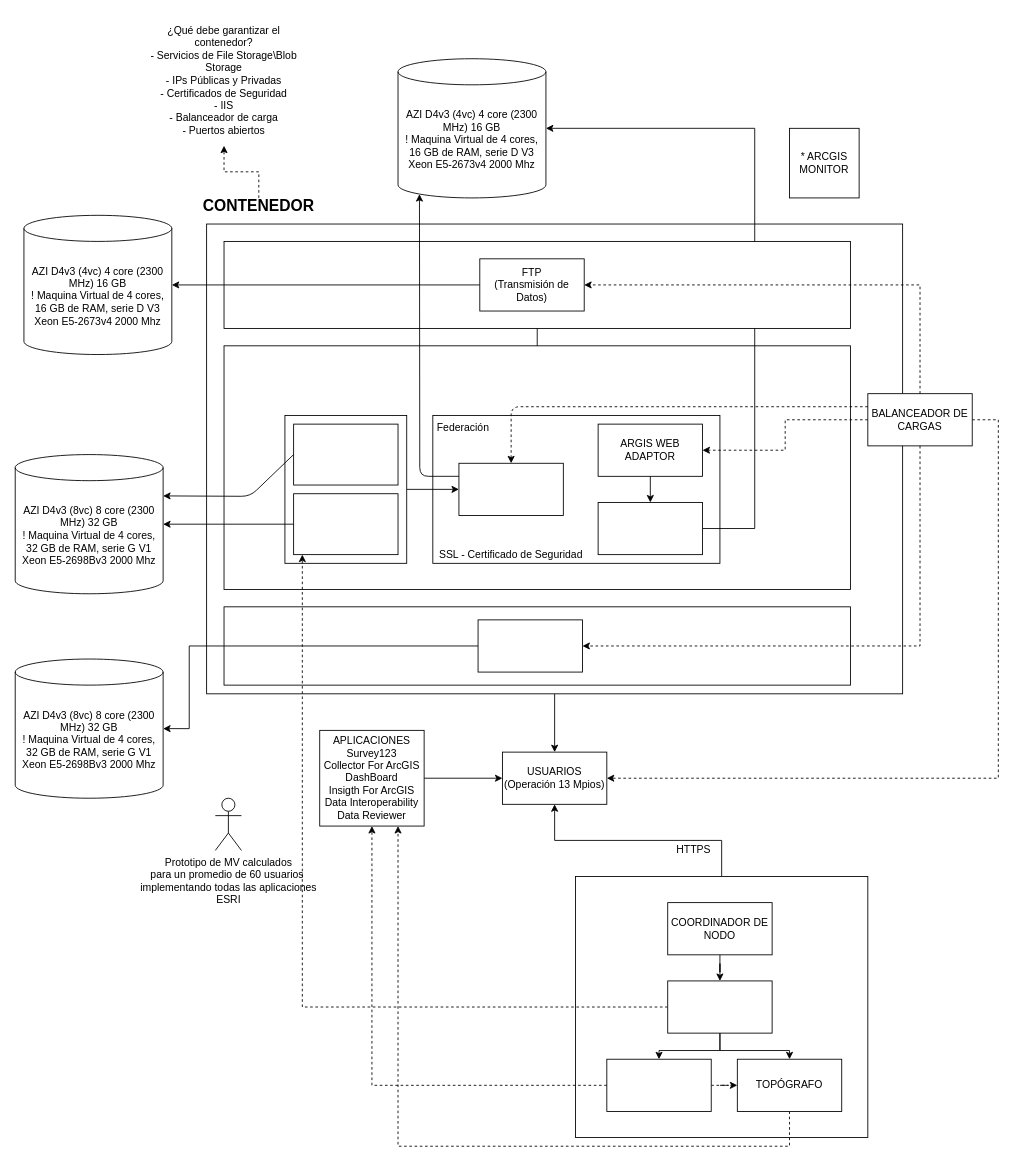
Some shapes in this 1021 by 1168 pixel diagram are drawn without their labels. The centre of each missing label's shape, as x and y in pixels:
"APOYO GIS (NODO)" belongs at [719,1006].
"ARCGIS SERVER 1 (Hosteado)" belongs at [510,488].
"BDG Empresarial SQL Server" belongs at [345,524].
"DATA STORE Data Store Relacional" belongs at [345,454].
"ENCUESTADOR" belongs at [658,1084].
"PORTAL FOR ARCGIS" belongs at [650,528].
"SERVIDOR DE IMÁGENES" belongs at [529,645].
